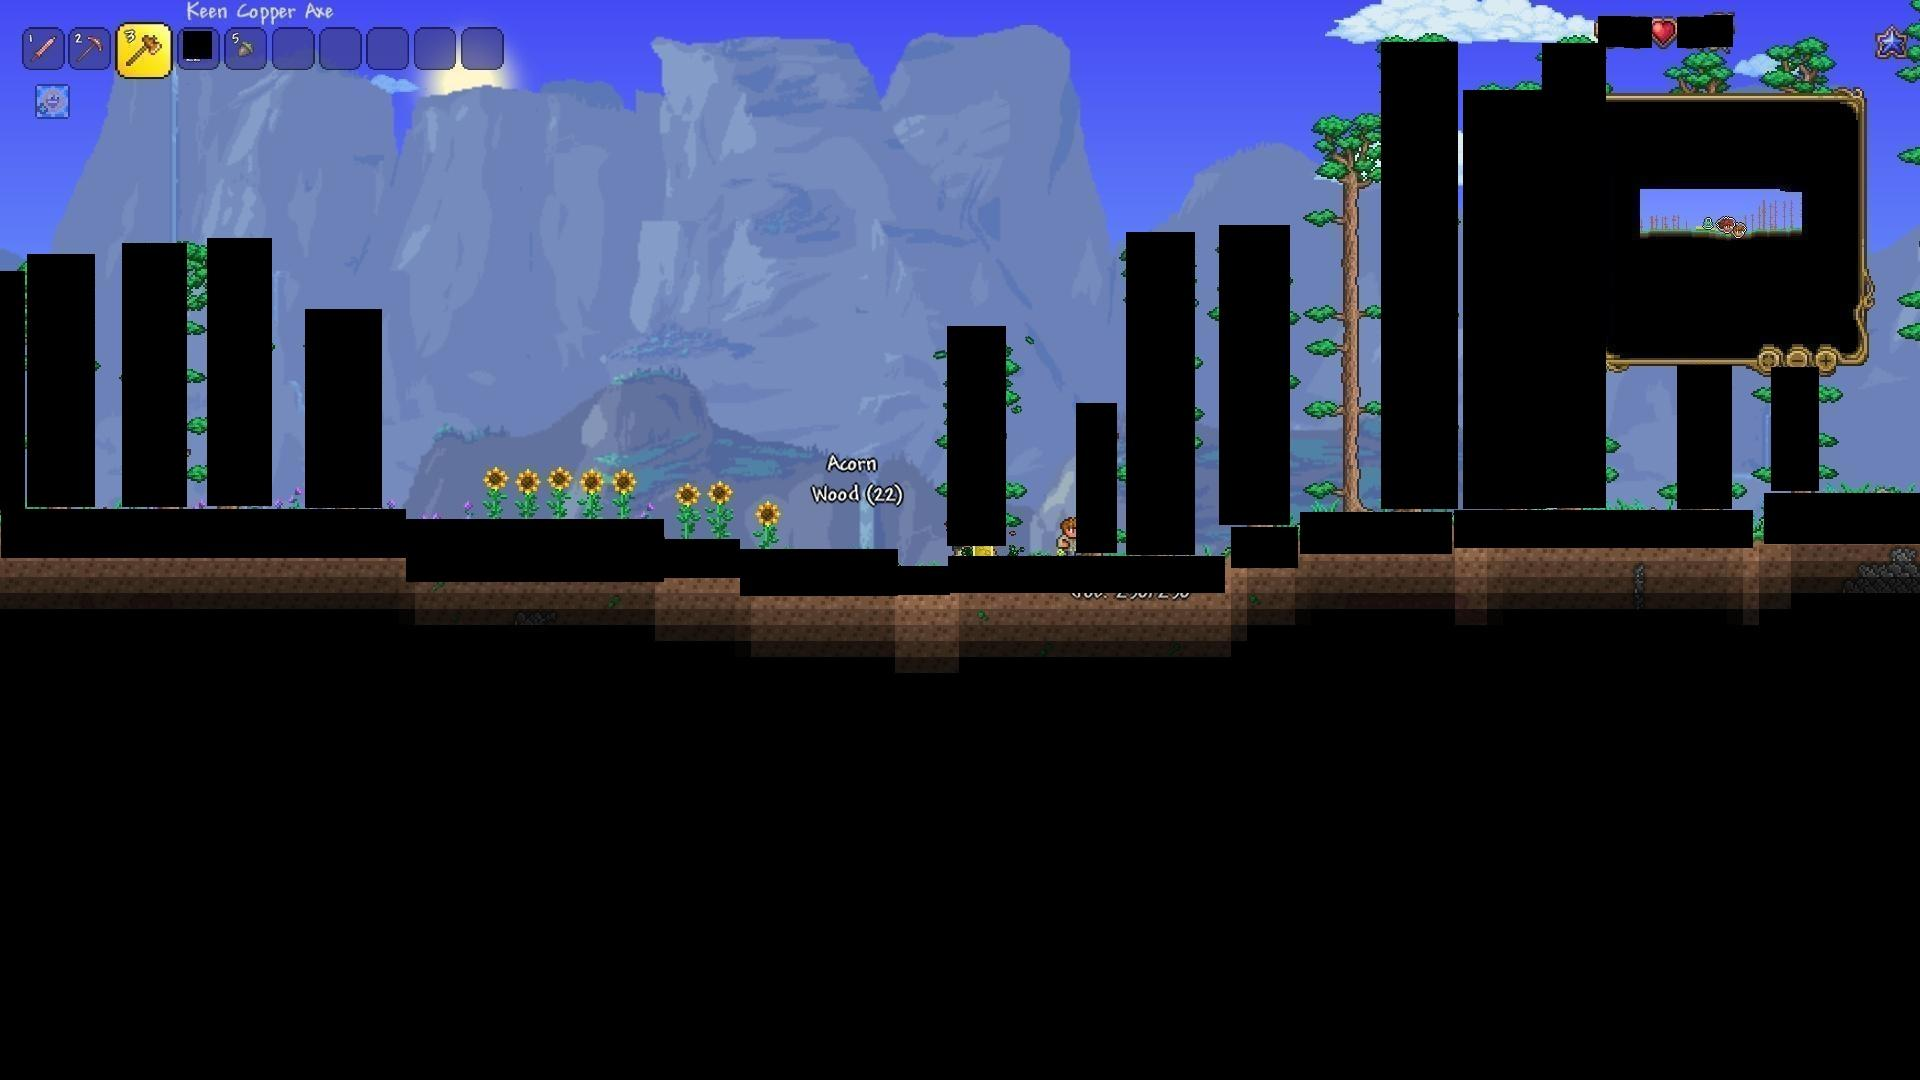heart: (1648, 17, 1677, 47)
tree: (1305, 102, 1379, 508)
